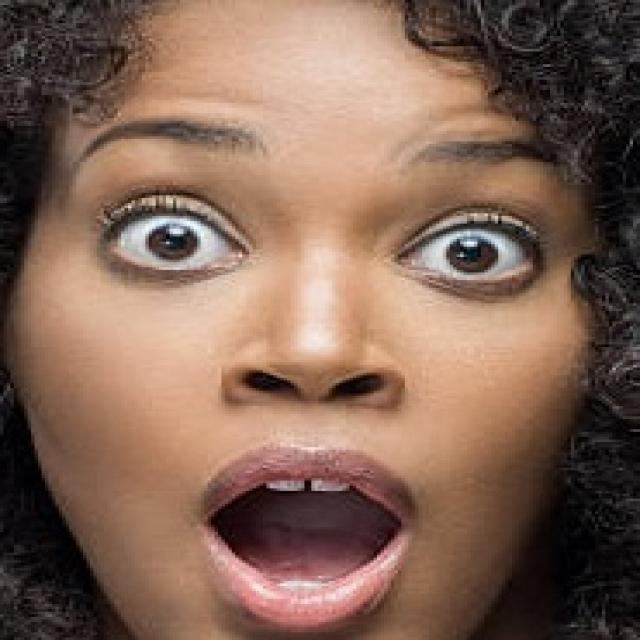Anxiety: (3, 0, 605, 637)
